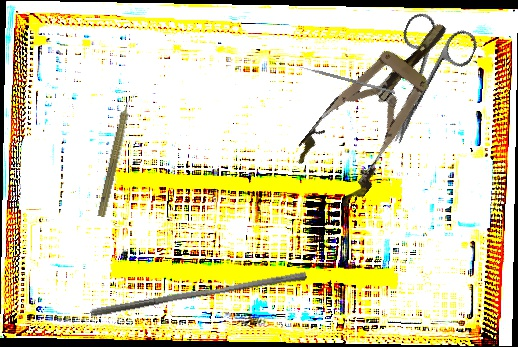Handpiece: (95, 90, 139, 219)
Iris Scissors: (361, 8, 481, 157)
Pusher: (89, 263, 308, 326), (290, 63, 396, 94)
Speculum: (286, 0, 477, 213)
